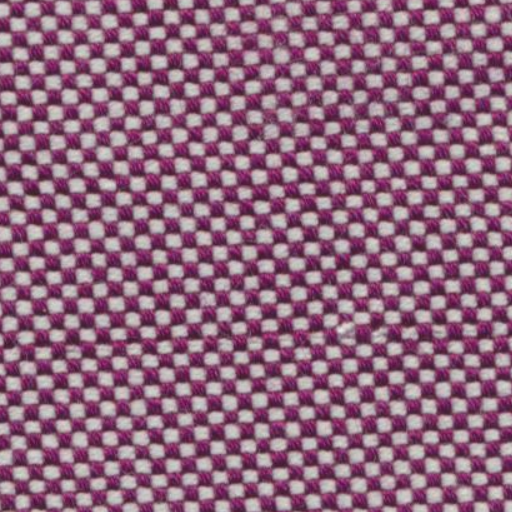TuoSha: (12, 290, 500, 379)
